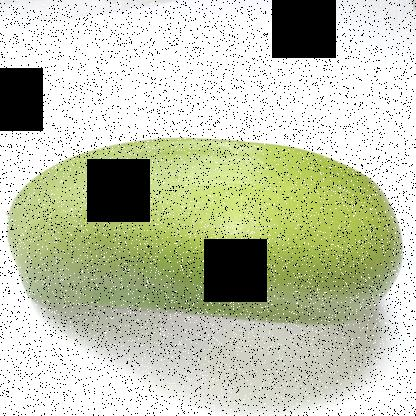freshunripe: (3, 115, 409, 348)
